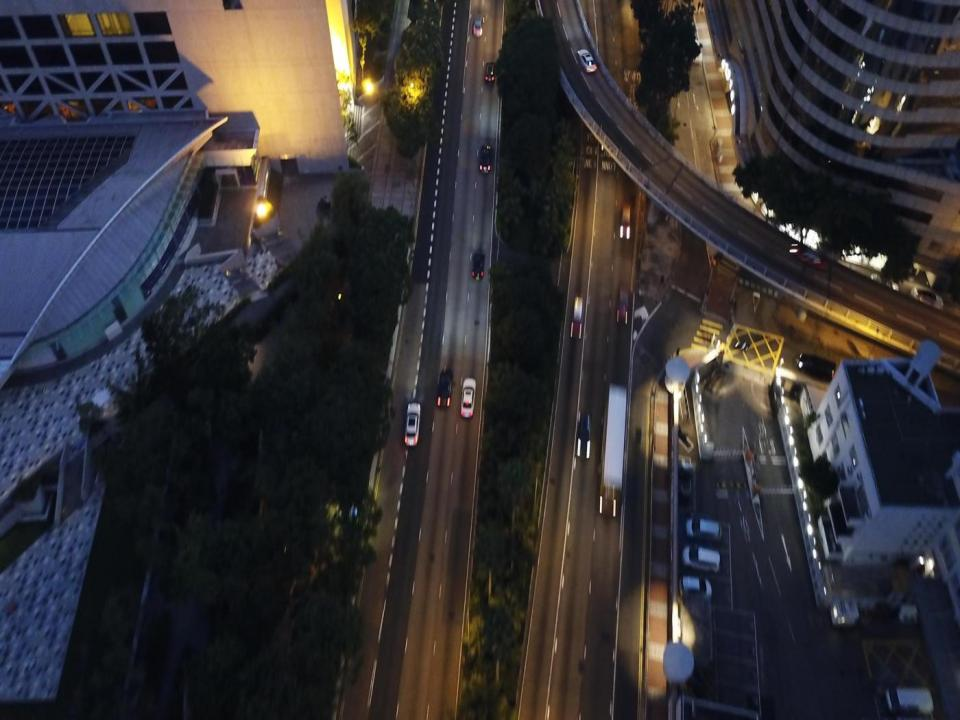bus: (595, 386, 628, 517)
car: (795, 351, 837, 380), (575, 413, 593, 459), (405, 402, 422, 446), (614, 285, 629, 326), (436, 370, 452, 407), (461, 376, 475, 416), (576, 49, 596, 74), (469, 250, 485, 280), (478, 146, 494, 175), (619, 204, 632, 239), (482, 58, 496, 86), (473, 10, 484, 37)
van: (885, 684, 933, 713), (682, 546, 720, 573), (686, 515, 721, 541), (679, 576, 712, 600), (570, 297, 584, 339)
